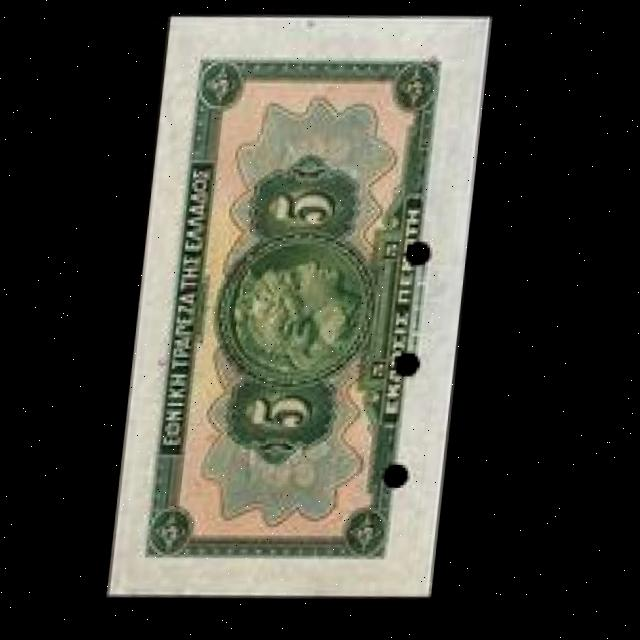banknote: (148, 48, 449, 577), (257, 177, 363, 238), (241, 381, 329, 446)
